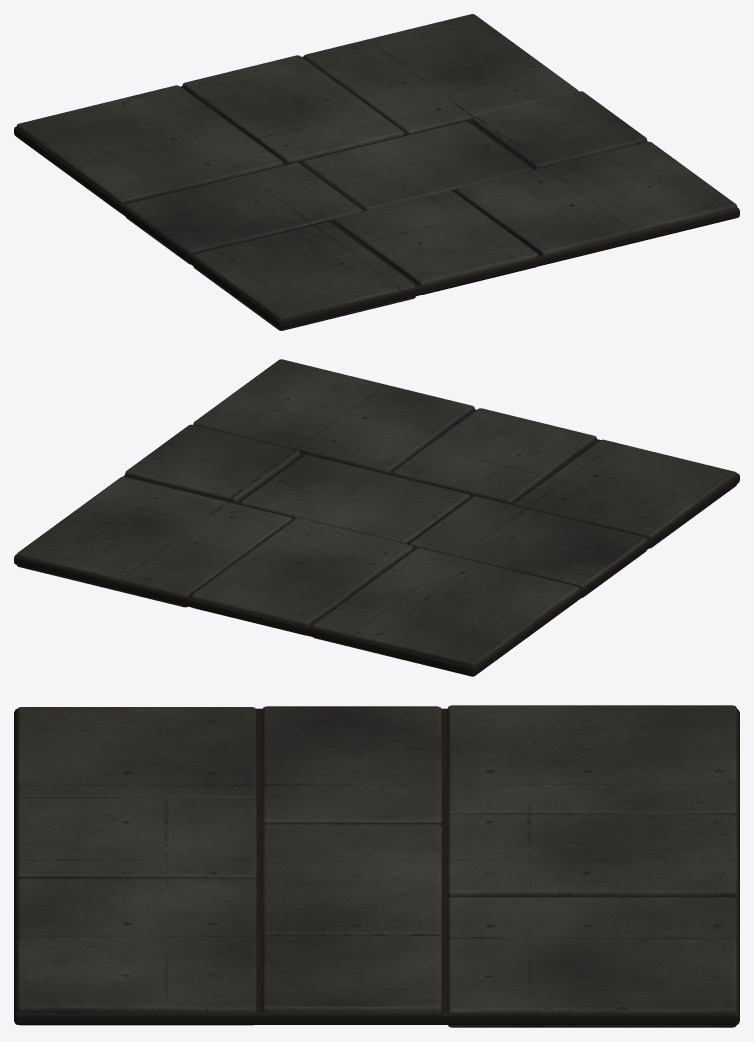
Rendered from Floor_Stone.gltf.
The picture shows the model from 3 angles, top to bottom: view 1: azimuth 30°, elevation 25°; view 2: azimuth 150°, elevation 25°; view 3: azimuth 270°, elevation 25°; orthographic projection. The views are drawn at different scales.
Parts seen in each view (by area): view 1: Floor_Stone_Body; view 2: Floor_Stone_Body; view 3: Floor_Stone_Body.
Part boxes in pixels (<box>): Floor_Stone_Body: <box>14,14,739,330</box>; Floor_Stone_Body: <box>14,359,739,676</box>; Floor_Stone_Body: <box>14,705,739,1027</box>.
Size of what is drawn, in the model's own units: 2 by 0.0705 by 2.
2 materials, 1 textured.
